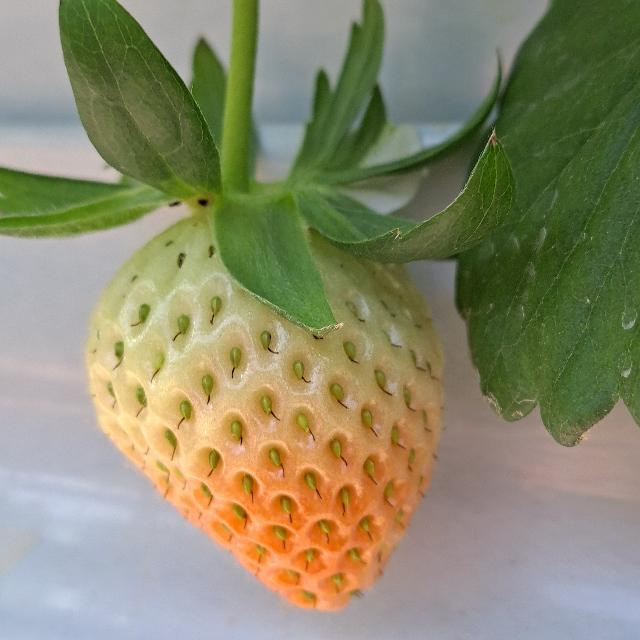Health_50: (85, 210, 445, 612)
